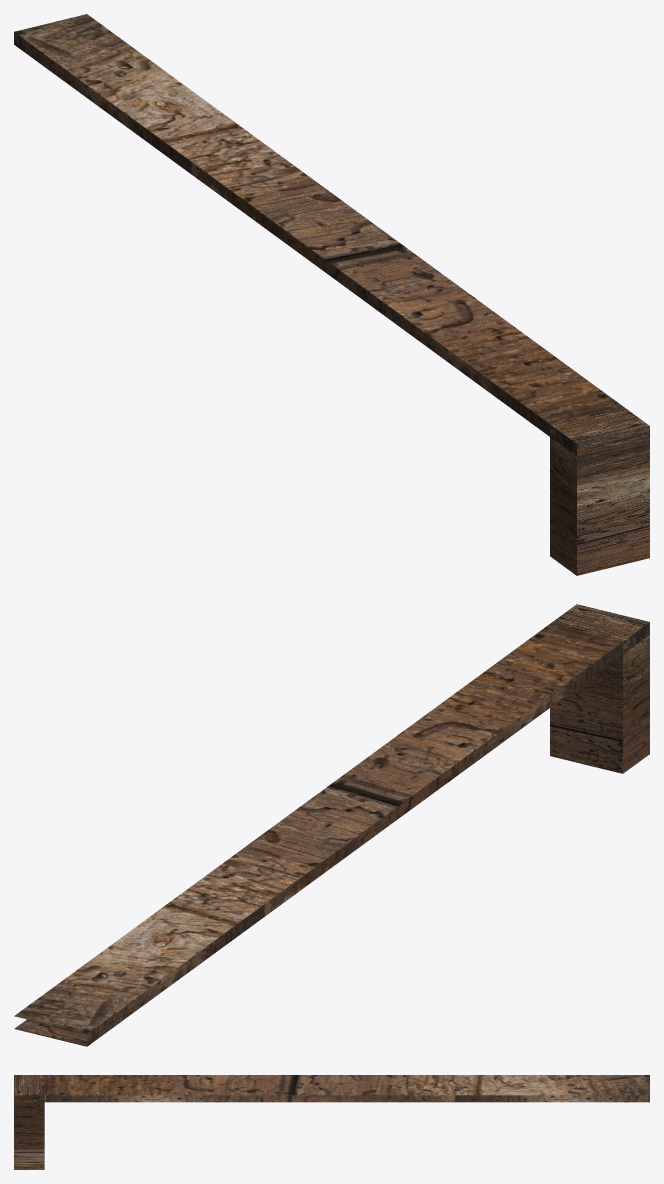
Rendered from bench.dae.
The picture shows the model from 3 angles, top to bottom: view 1: azimuth 30°, elevation 25°; view 2: azimuth 150°, elevation 25°; view 3: azimuth 270°, elevation 25°; orthographic projection. The views are drawn at different scales.
Parts seen in each view (by area): view 1: bench; view 2: bench; view 3: bench.
Boxes of the visible parts, <box> form: bench: <box>14,14,649,575</box>; bench: <box>14,604,649,1046</box>; bench: <box>14,1075,649,1169</box>.
Size of the model in its own units: 1.5 by 20 by 2.59.
1 material, 1 textured.
